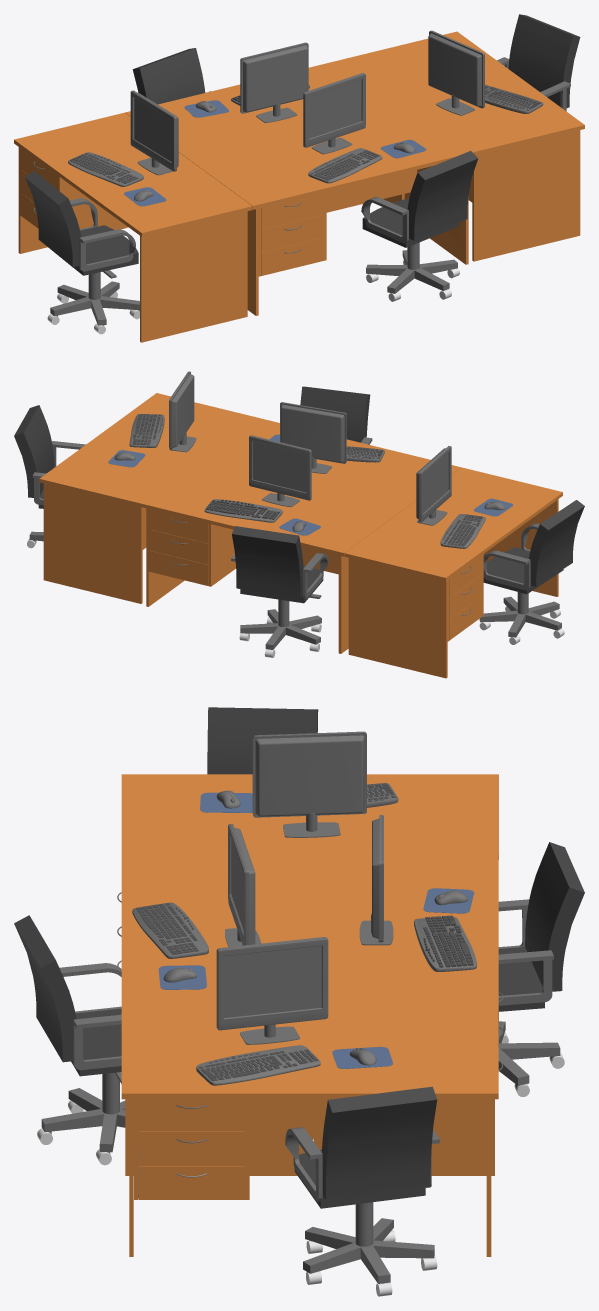
File: office_tables.glb
The picture shows the model from 3 angles, top to bottom: view 1: azimuth 30°, elevation 25°; view 2: azimuth 150°, elevation 25°; view 3: azimuth 270°, elevation 25°; orthographic projection. The views are drawn at different scales.
Parts seen in each view (by area): view 1: G-Table Frame.007, G-Table Frame.005, G-Table Frame.004, G-Table Frame.006, G-Table Frame.001, G-Table Frame.003, G-__562611.001, G-__562611.002, computer.dxf.117, G-Table Frame.008, G-__562611.004, computer.dxf.011 (+18 smaller); view 2: G-Table Frame.007, G-Table Frame.004, G-Table Frame.006, G-Table Frame.001, G-Table Frame.003, G-Table Frame.005, G-__562611.003, G-__562611.002, computer.dxf.117, computer.dxf.011, G-Table Frame.002, G-__562611.004 (+20 smaller); view 3: G-Table Frame.001, G-Table Frame.003, G-Table Frame.004, G-Table Frame.005, G-__562611.004, computer.dxf.016, computer.dxf.006, G-__562611.003, G-Table Frame.006, G-__562611.001, G-__562611.002, G-__562683.004 (+22 smaller).
Boxes of the visible parts, x1,y1,x2,y2 form: G-Table Frame.007: [18, 147, 247, 342]; G-Table Frame.005: [189, 105, 474, 209]; G-Table Frame.004: [14, 112, 252, 236]; G-Table Frame.006: [468, 130, 580, 261]; G-Table Frame.001: [346, 31, 584, 155]; G-Table Frame.003: [125, 58, 409, 159]; G-__562611.001: [362, 151, 478, 247]; G-__562611.002: [25, 170, 138, 275]; computer.dxf.117: [240, 42, 308, 122]; G-Table Frame.008: [247, 166, 468, 315]; G-__562611.004: [508, 14, 580, 107]; computer.dxf.011: [303, 73, 365, 154]; G-Table Frame.007: [348, 499, 558, 678]; G-Table Frame.004: [344, 467, 562, 581]; G-Table Frame.006: [43, 483, 146, 603]; G-Table Frame.001: [39, 393, 257, 506]; G-Table Frame.003: [141, 460, 402, 556]; G-Table Frame.005: [200, 417, 460, 509]; G-__562611.003: [232, 526, 323, 603]; G-__562611.002: [483, 500, 584, 594]; computer.dxf.117: [249, 435, 311, 507]; computer.dxf.011: [280, 402, 346, 473]; G-Table Frame.002: [146, 508, 348, 653]; G-__562611.004: [14, 405, 54, 508]; G-Table Frame.001: [121, 1013, 498, 1099]; G-Table Frame.003: [310, 854, 498, 1013]; G-Table Frame.004: [121, 774, 498, 859]; G-Table Frame.005: [121, 854, 310, 1013]; G-__562611.004: [294, 1086, 437, 1208]; computer.dxf.016: [252, 731, 366, 837]; computer.dxf.006: [216, 937, 328, 1044]; G-__562611.003: [498, 842, 584, 1011]; G-Table Frame.006: [129, 1099, 491, 1256]; G-__562611.001: [14, 915, 121, 1076]; G-__562611.002: [207, 707, 318, 774]; G-__562683.004: [303, 1202, 434, 1283].
Size of the model in its own units: 3.82 by 1.15 by 2.27.
